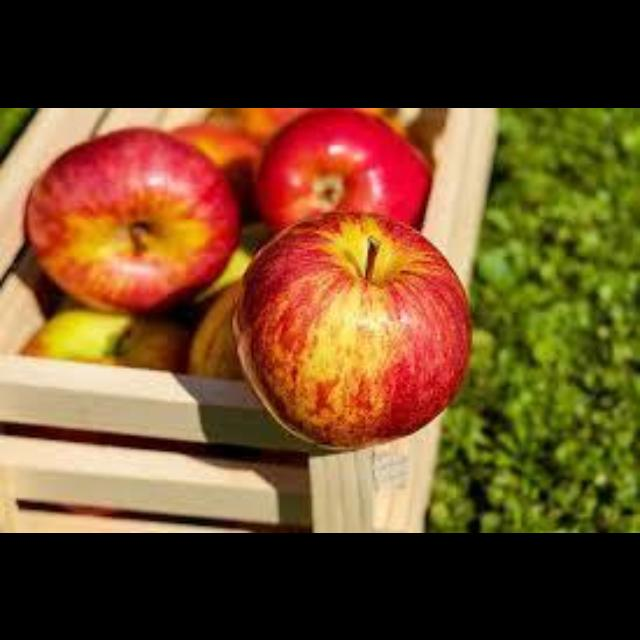apple: (235, 212, 468, 447), (23, 128, 237, 309), (254, 107, 431, 228)
